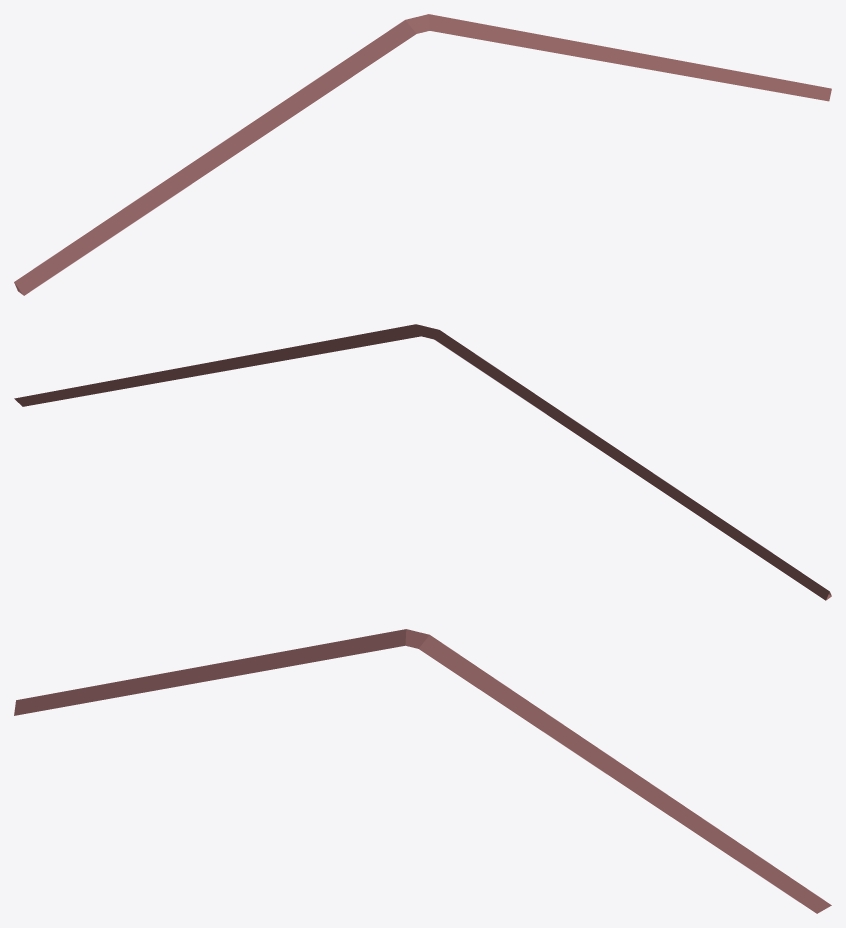
Rendered from WC_RoofSupport.fbx.
The picture shows the model from 3 angles, top to bottom: view 1: azimuth 30°, elevation 25°; view 2: azimuth 150°, elevation 25°; view 3: azimuth 330°, elevation 25°; orthographic projection.
Visible parts, largest first — view 1: WC_RoofSupport; view 2: WC_RoofSupport; view 3: WC_RoofSupport.
Part boxes in pixels (left/top/right/bottom): WC_RoofSupport: left=14, top=14, right=831, bottom=295; WC_RoofSupport: left=14, top=324, right=831, bottom=600; WC_RoofSupport: left=14, top=629, right=831, bottom=913.
Bounding box in the file's own units: 1196 × 250 × 15.55.
